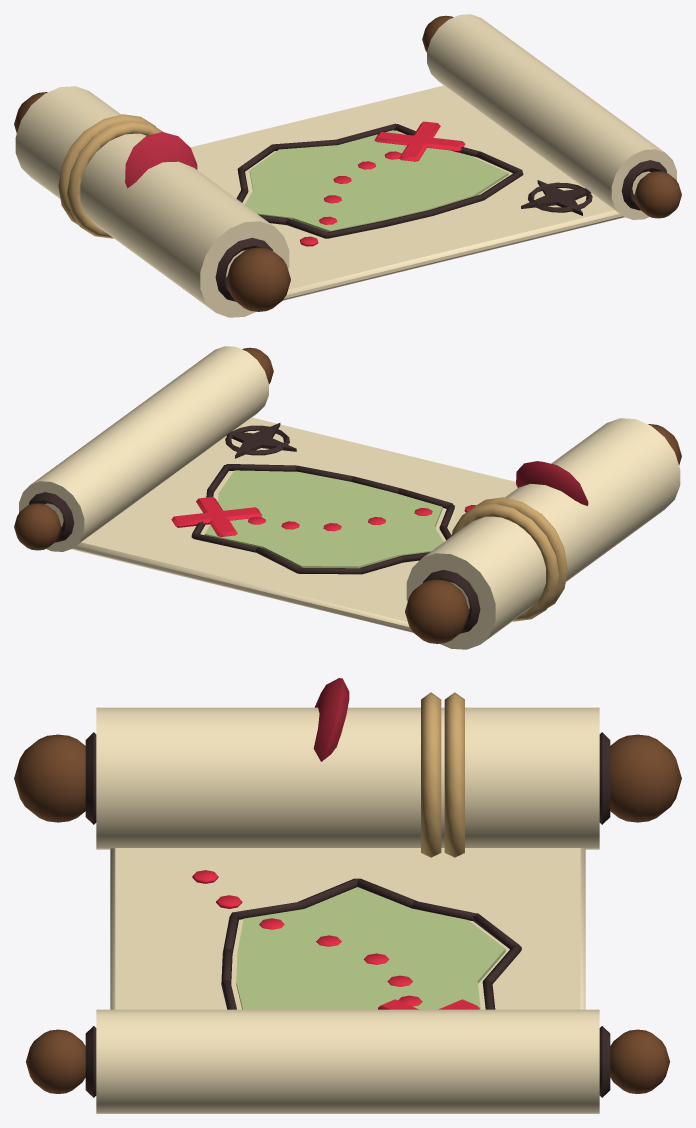
Rendered from item_treasure_map.glb.
3 renders of one model, top to bottom at view 1: azimuth 30°, elevation 25°; view 2: azimuth 150°, elevation 25°; view 3: azimuth 270°, elevation 25°, orthographic. The views are drawn at different scales.
Visible parts, largest first — view 1: TreasureMap; view 2: TreasureMap; view 3: TreasureMap.
Boxes of the visible parts, x1=… form: TreasureMap: x1=14, y1=14, x2=681, y2=317; TreasureMap: x1=14, y1=346, x2=681, y2=649; TreasureMap: x1=14, y1=678, x2=681, y2=1113.
Bounding box in the file's own units: 0.3232 × 0.08 × 0.2812.
